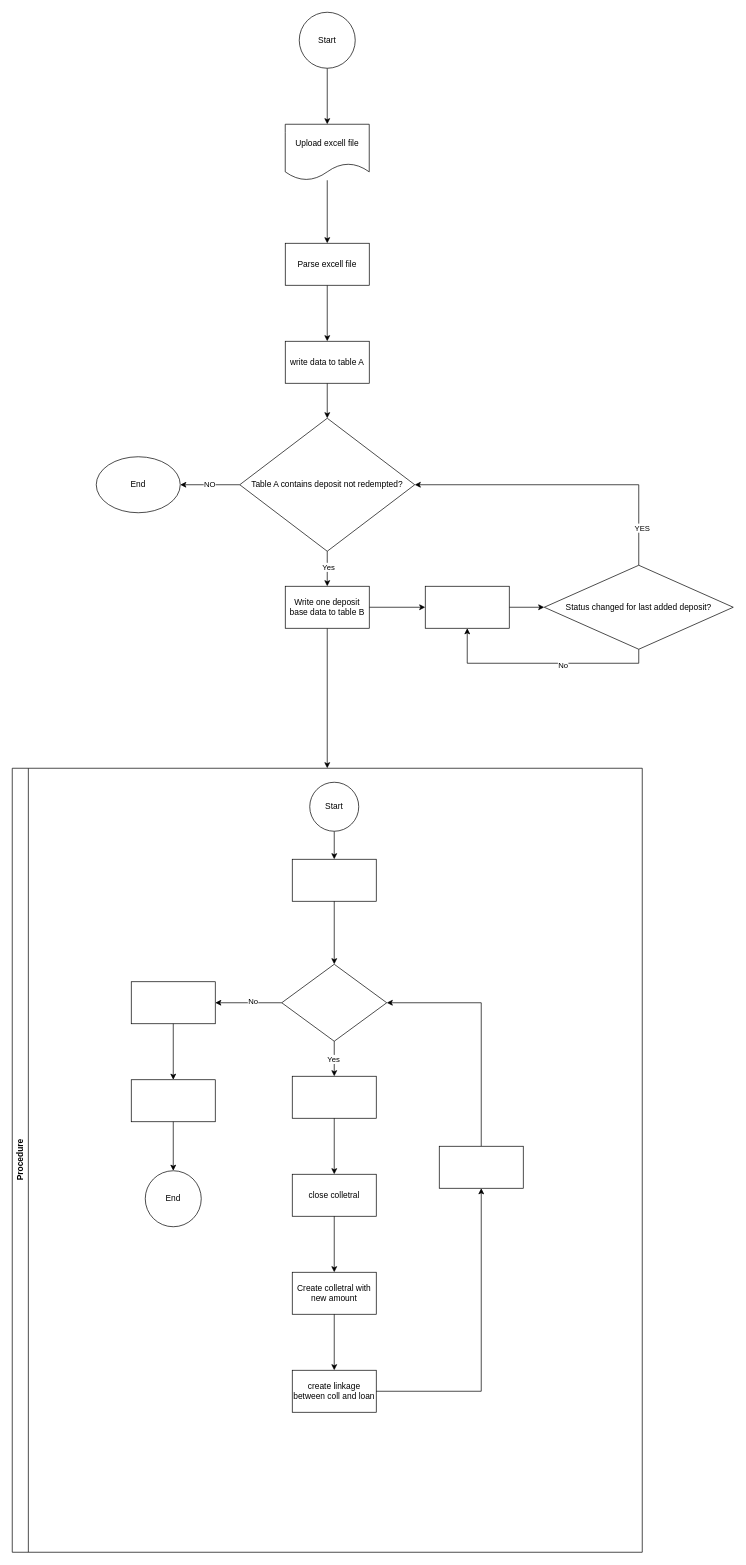
This 746x1565 diagram has some shape labels left out. Here are the shapes that lost their labels. From the top down, the box of each, then its label:
(425, 586, 509, 628): Listen for table C for status
(292, 859, 376, 901): Populate table B with dep_amt, coll_amt, loan_amt, redmp_amt
(131, 981, 215, 1024): Redempt deposit amount
(281, 964, 387, 1041): colletral exist with redmp_amt > 0
(131, 1079, 215, 1122): Add status to table C
(292, 1076, 376, 1118): Delete linkage between coll and loan
(439, 1146, 523, 1188): Increase redempt amount for deposit
